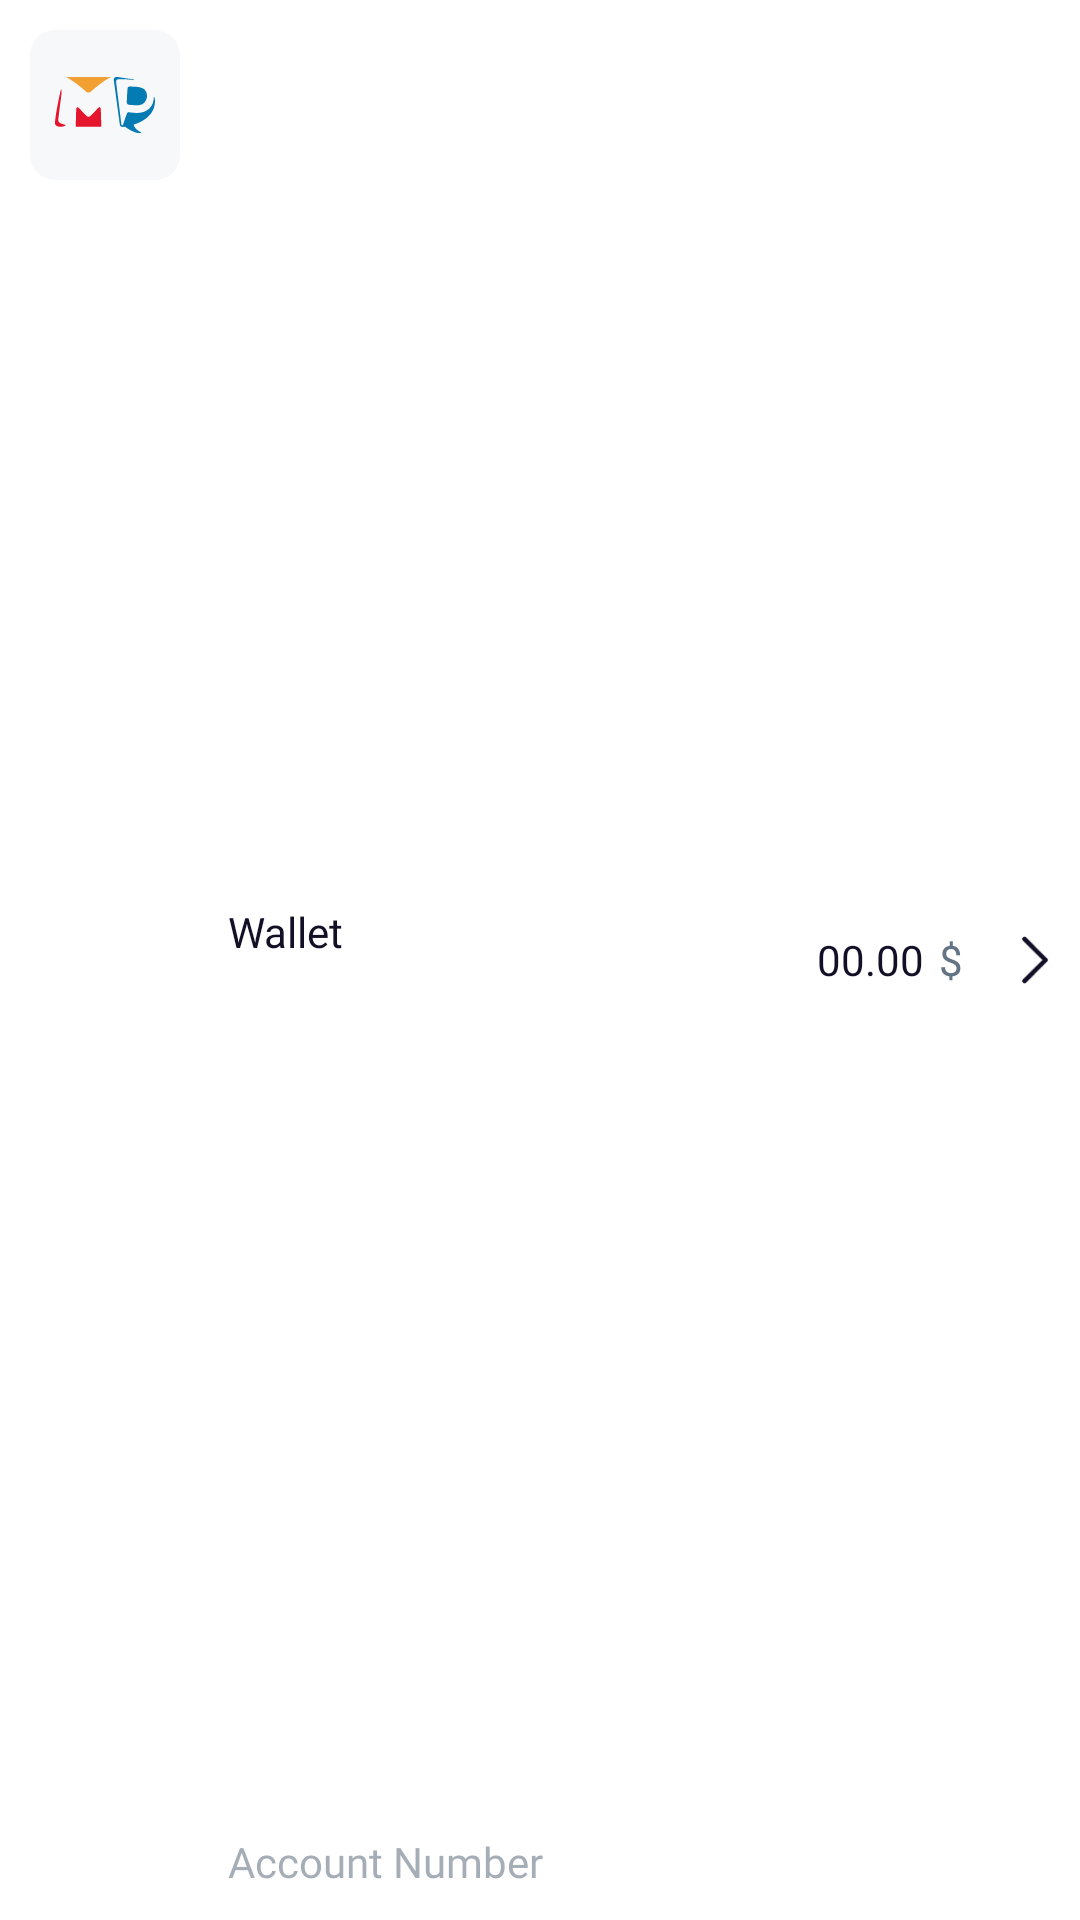

Icons on this 1080w x 1920h Android screen, each with its box as (x1, y1, x2, y2):
arrow right: (1022, 936, 1048, 984)
